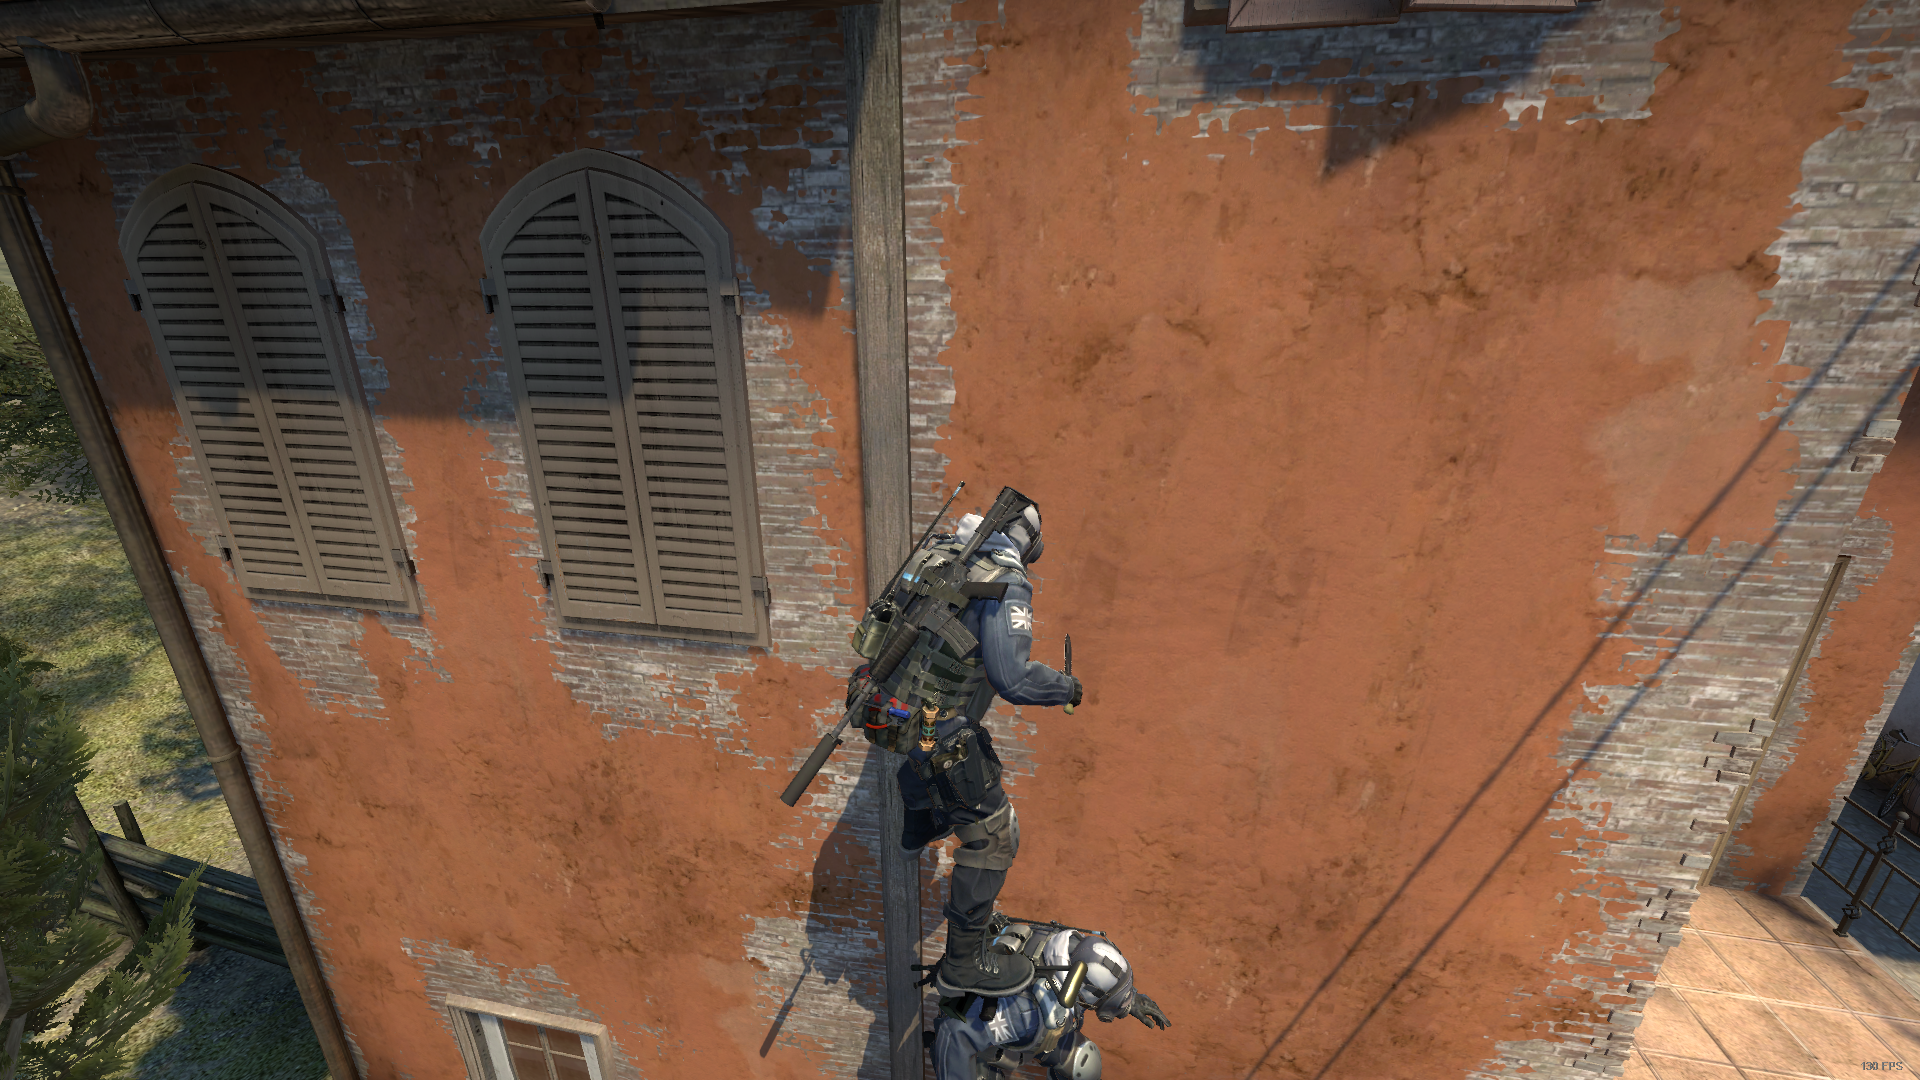ct: (844, 485, 1047, 994), (927, 914, 1175, 1080)
